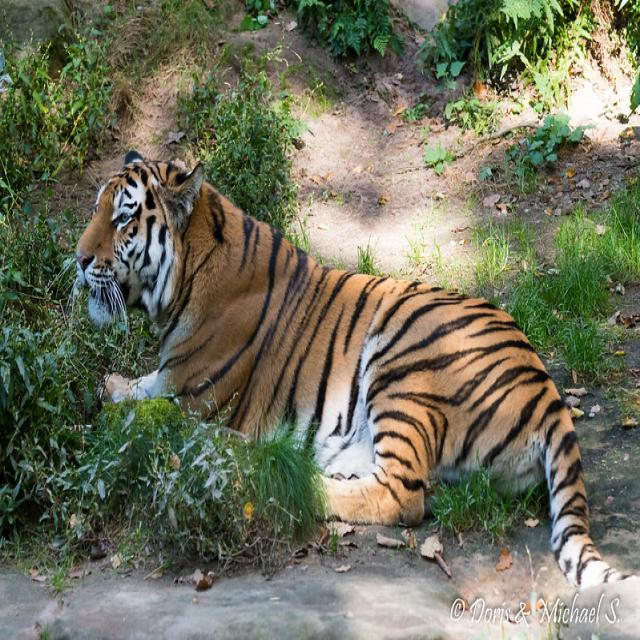Tiger: (59, 139, 604, 580)
